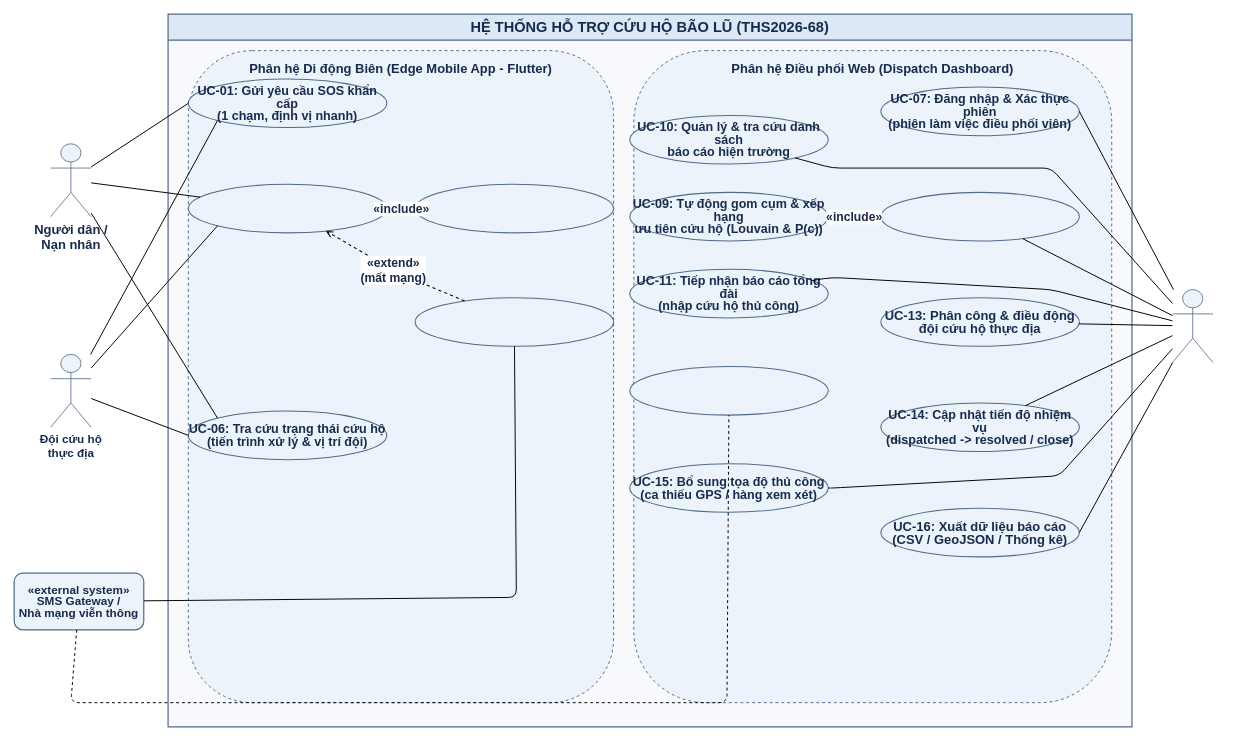
This 1251x742 diagram has some shape labels left out. Here are the shapes that lost their labels. From the top down, the centre of each, then its label:
At (287,208): "UC-02: Tạo báo cáo cứu hộ chi tiết (vị trí, số người, ảnh hiện trường)".
At (514,208): "UC-03: Nhận diện mức ngập từ ảnh (Edge AI on-device MobileNetV3)".
At (979,216): "UC-08: Giám sát bản đồ sự cố & thứ tự ưu tiên cứu hộ".
At (514,321): "UC-04: Gửi tin nhắn SMS dự phòng (khi mất hoàn toàn dữ liệu mạng)".
At (1192,325): "Điều phối viên (Dispatcher)".
At (728,390): "UC-12: Tiếp nhận báo cáo qua SMS (đồng bộ tự động từ Gateway)".
